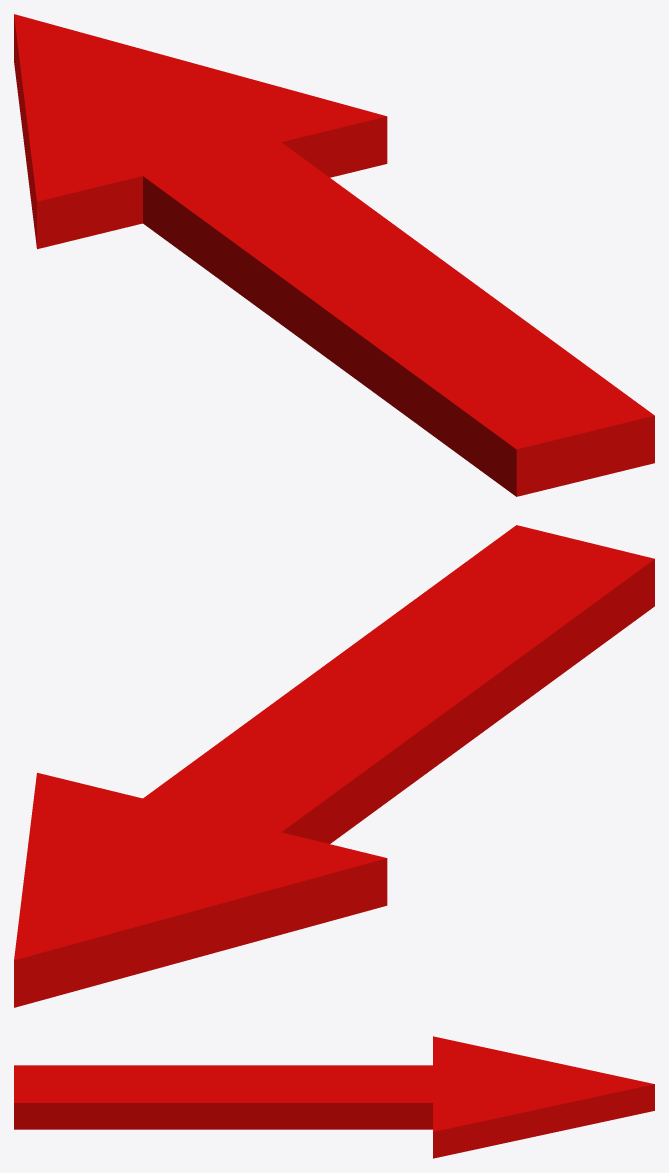
The model's file is Fleche.fbx.
3 renders of one model, top to bottom at view 1: azimuth 30°, elevation 25°; view 2: azimuth 150°, elevation 25°; view 3: azimuth 270°, elevation 25°, orthographic. The views are drawn at different scales.
Parts seen in each view (by area): view 1: Cube; view 2: Cube; view 3: Cube.
Part boxes in pixels (box(x1,y1,x2,y2)): Cube: box(14, 14, 654, 496); Cube: box(14, 525, 654, 1007); Cube: box(14, 1036, 654, 1158).
Bounding box in the file's own units: 337 × 43.7 × 953.
